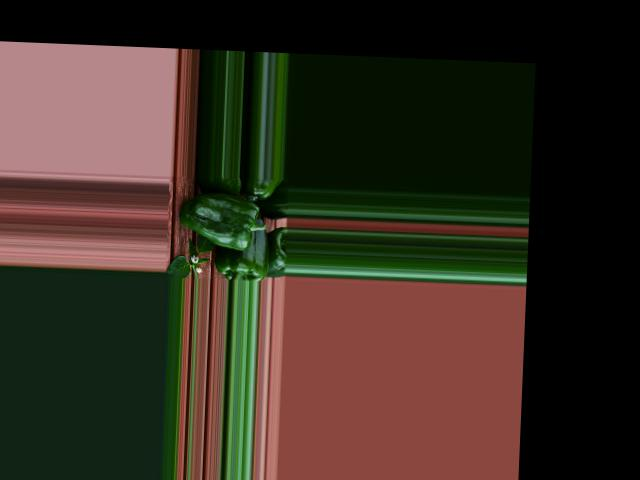bell_pepper: (246, 177, 284, 204)
